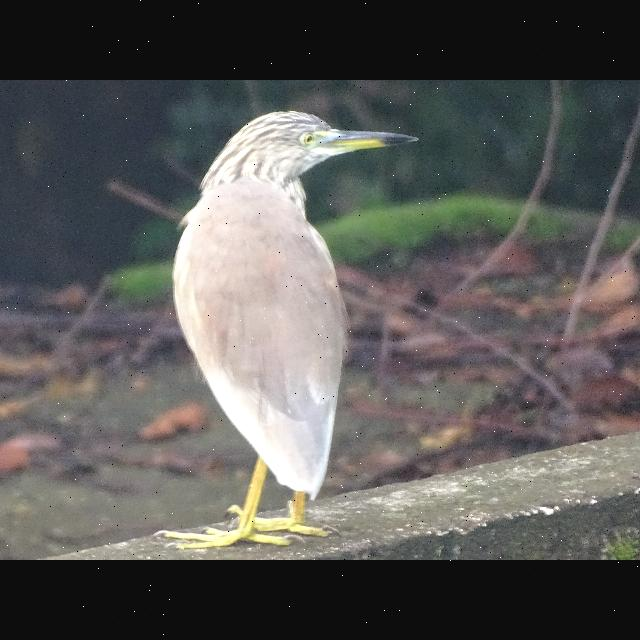heron: (165, 105, 427, 560)
